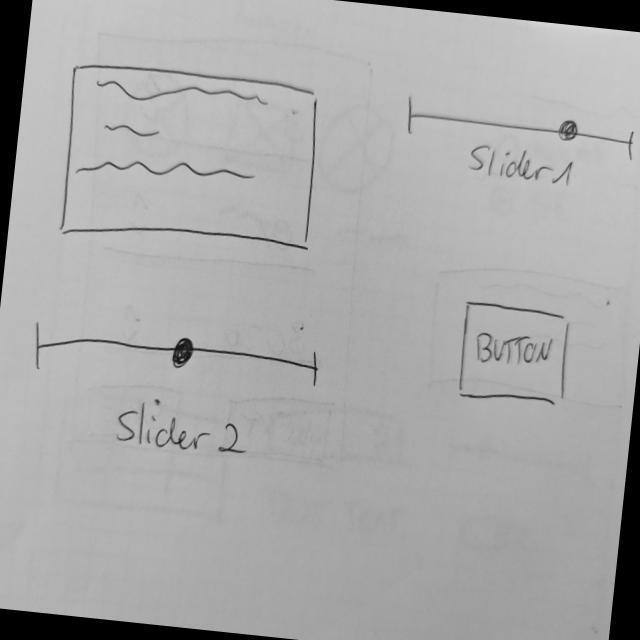button: (455, 295, 579, 416)
label: (112, 395, 253, 468), (464, 140, 583, 186)
slider: (27, 314, 329, 407), (400, 92, 640, 163)
textbox: (54, 56, 329, 262)
